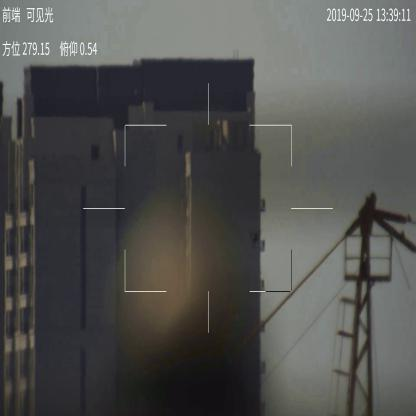uav: (244, 229, 260, 249)
